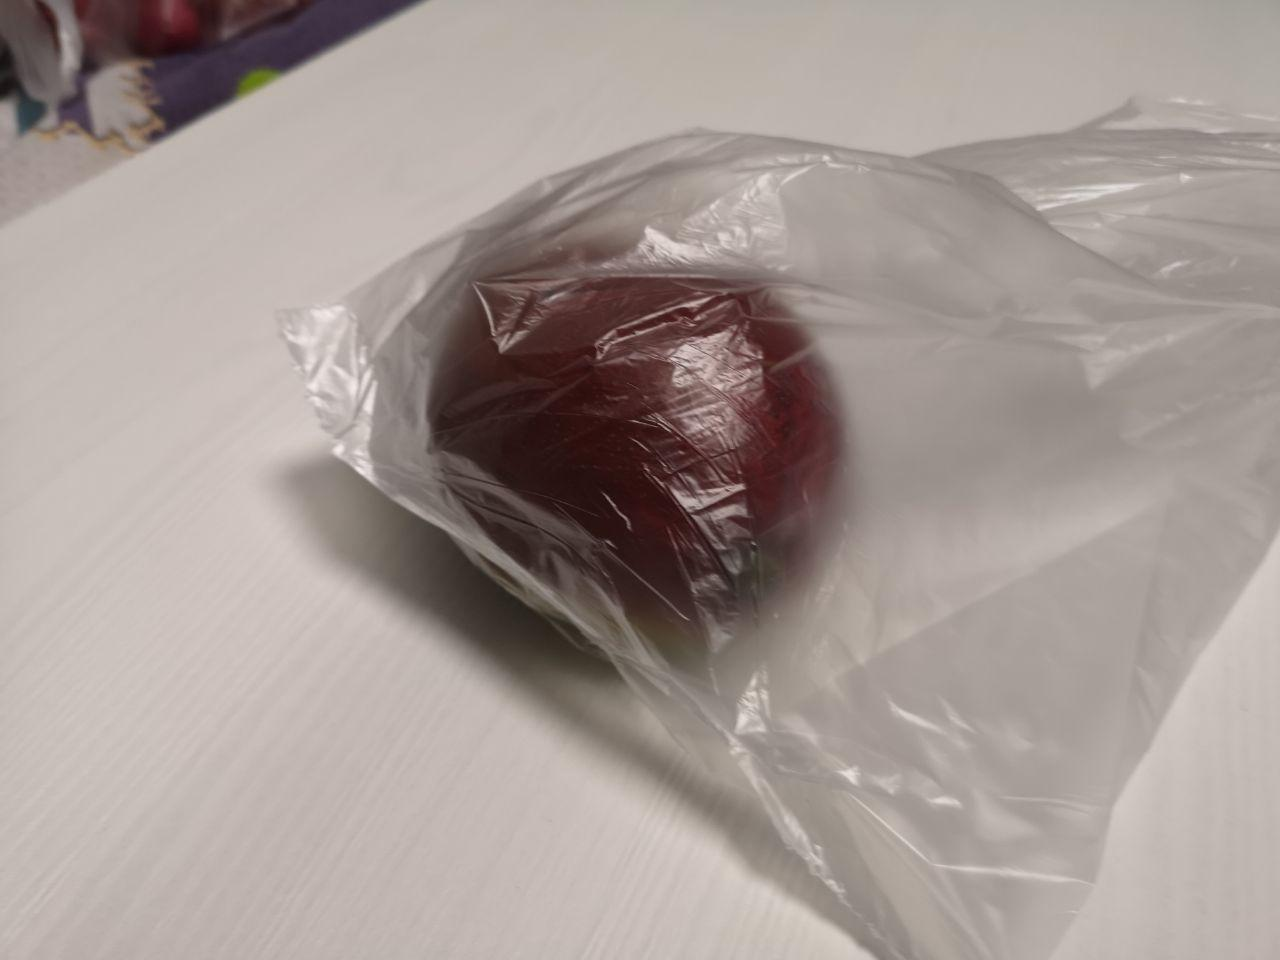mango: (277, 126, 1080, 791)
